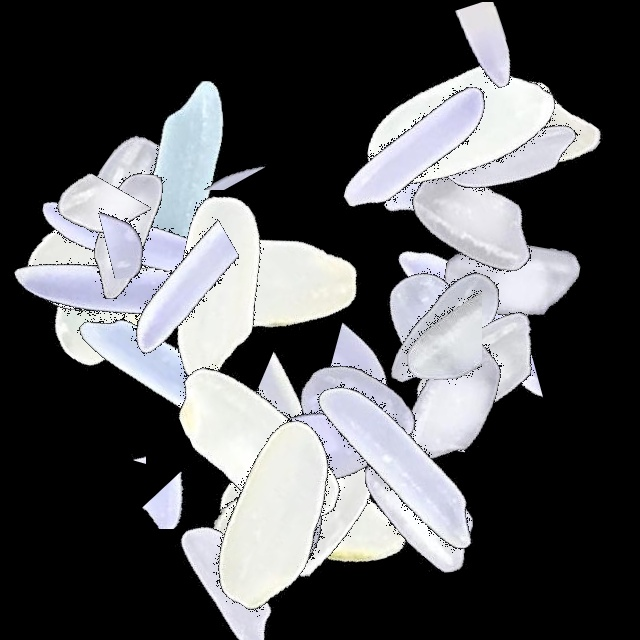Broken: (200, 391, 450, 563), (313, 248, 563, 418), (128, 470, 378, 640), (387, 178, 552, 428), (41, 211, 291, 372), (0, 178, 250, 331), (283, 297, 436, 547), (244, 311, 393, 561), (338, 210, 482, 460), (272, 313, 522, 450), (28, 118, 151, 368), (366, 2, 616, 116), (21, 185, 271, 292), (360, 66, 462, 316), (368, 270, 465, 520), (86, 93, 336, 190), (26, 185, 276, 279), (27, 243, 277, 325), (66, 285, 146, 535), (93, 451, 343, 529), (0, 276, 250, 354)
Full: (0, 150, 250, 400), (38, 244, 288, 494), (189, 390, 439, 640), (0, 81, 250, 331), (387, 155, 637, 405), (162, 376, 412, 626), (323, 206, 573, 456), (0, 116, 250, 366), (184, 370, 434, 620), (138, 158, 388, 408), (178, 390, 428, 640), (374, 10, 624, 260), (59, 49, 309, 299), (351, 244, 601, 494), (348, 100, 598, 350), (0, 159, 250, 409), (10, 117, 260, 367), (3, 112, 253, 362), (94, 167, 344, 417), (253, 298, 503, 548), (296, 389, 546, 639), (380, 26, 630, 276), (326, 278, 576, 528), (231, 284, 481, 534), (334, 4, 584, 254), (272, 344, 522, 594), (132, 320, 382, 570), (291, 21, 541, 271), (151, 390, 401, 640)
